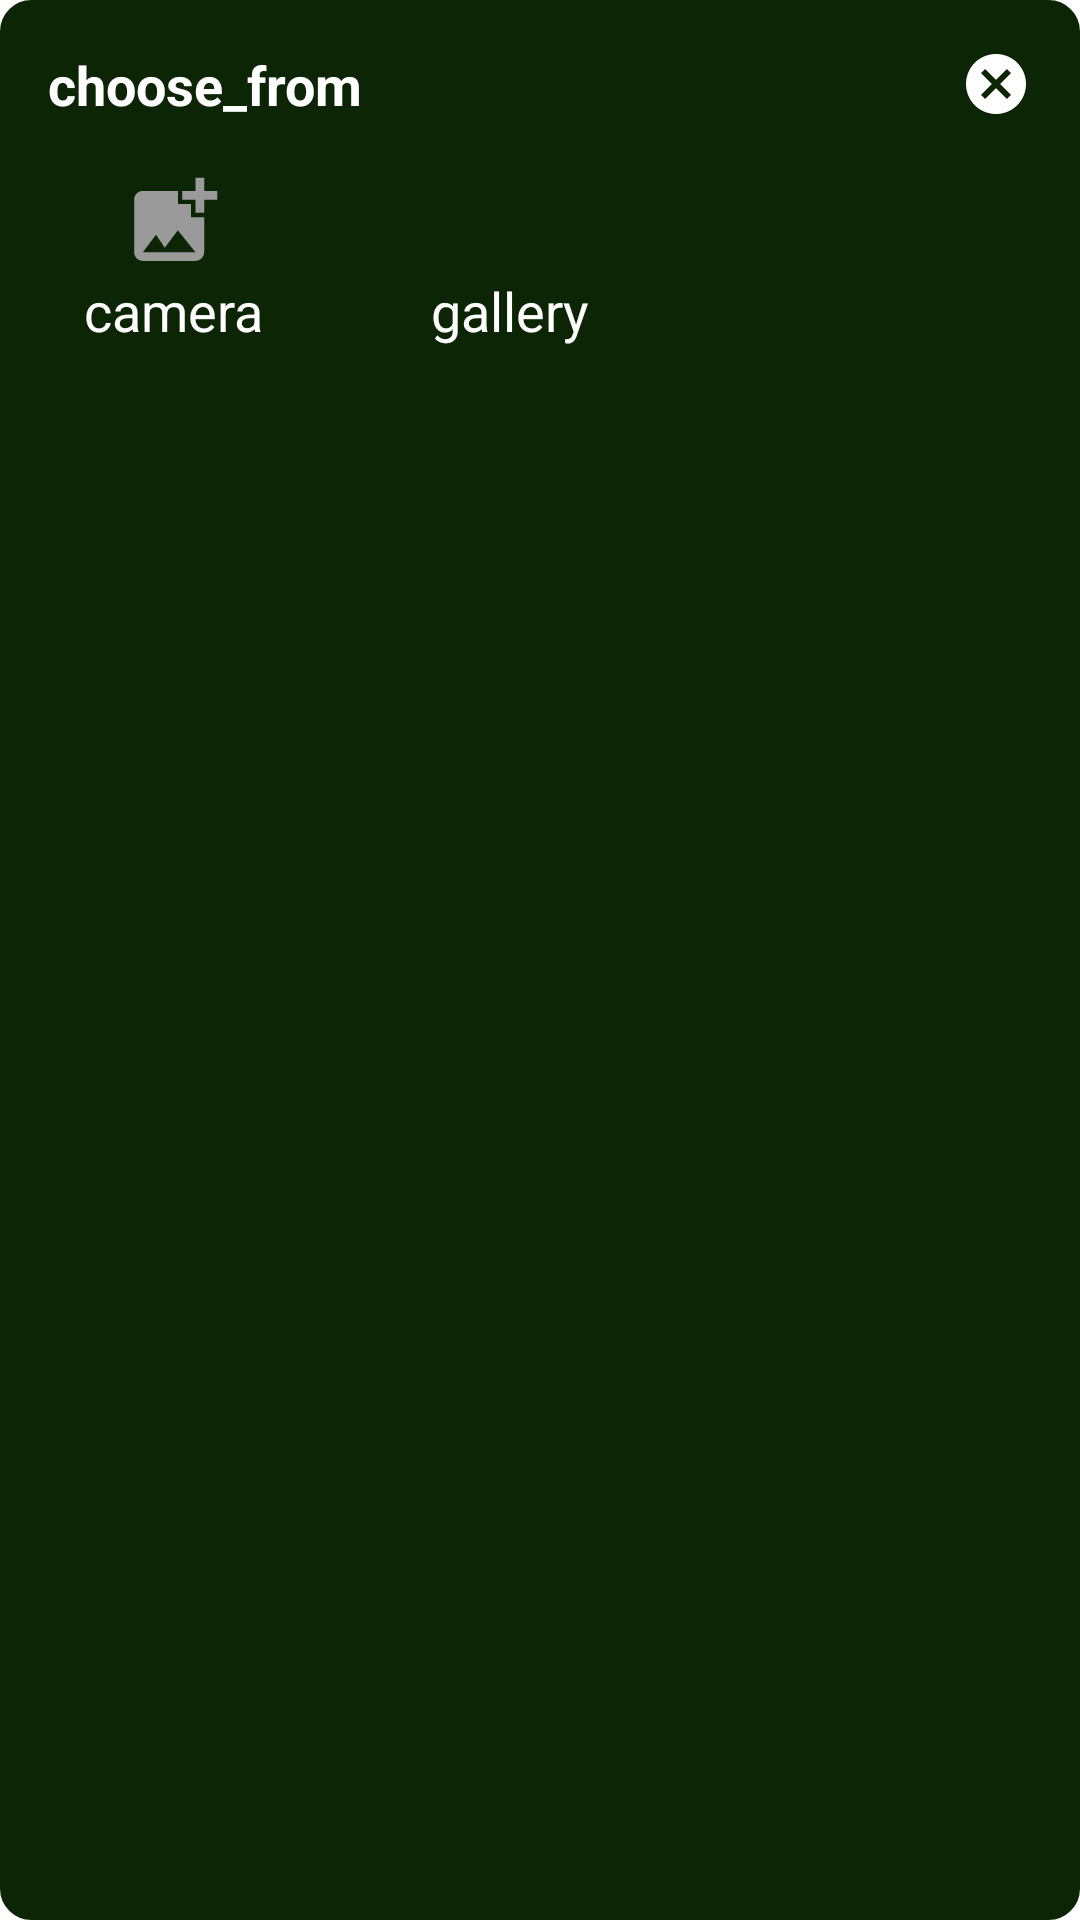

Point at icon controls on the screen. Image size 1080*1920, points as (x=x, y=y).
add photo alternate: (x=176, y=219)
cancel: (x=996, y=84)
